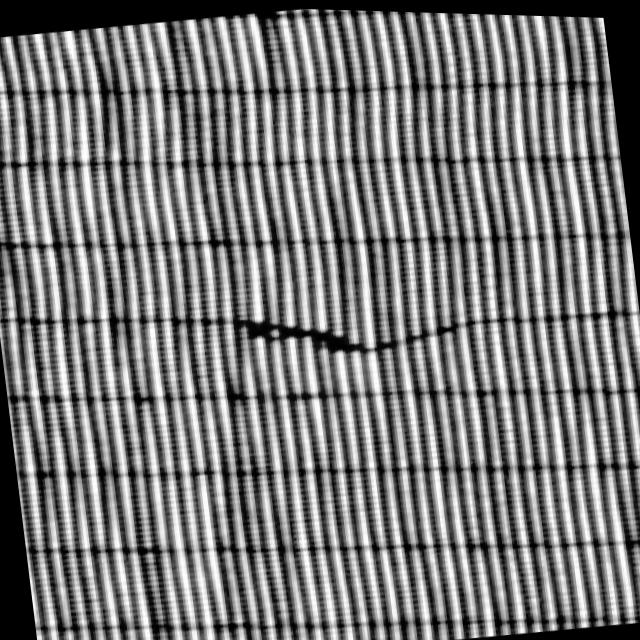Stitch: (219, 252, 548, 393)
